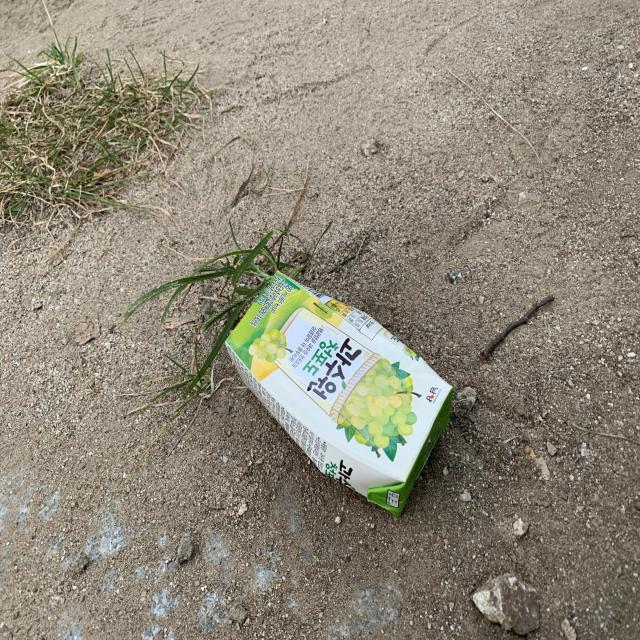paperpack: (226, 272, 453, 517)
